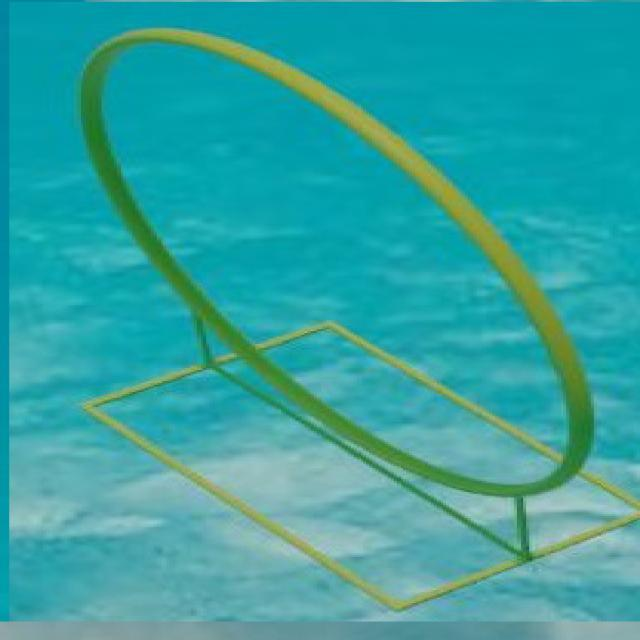Circle: (81, 31, 593, 489)
